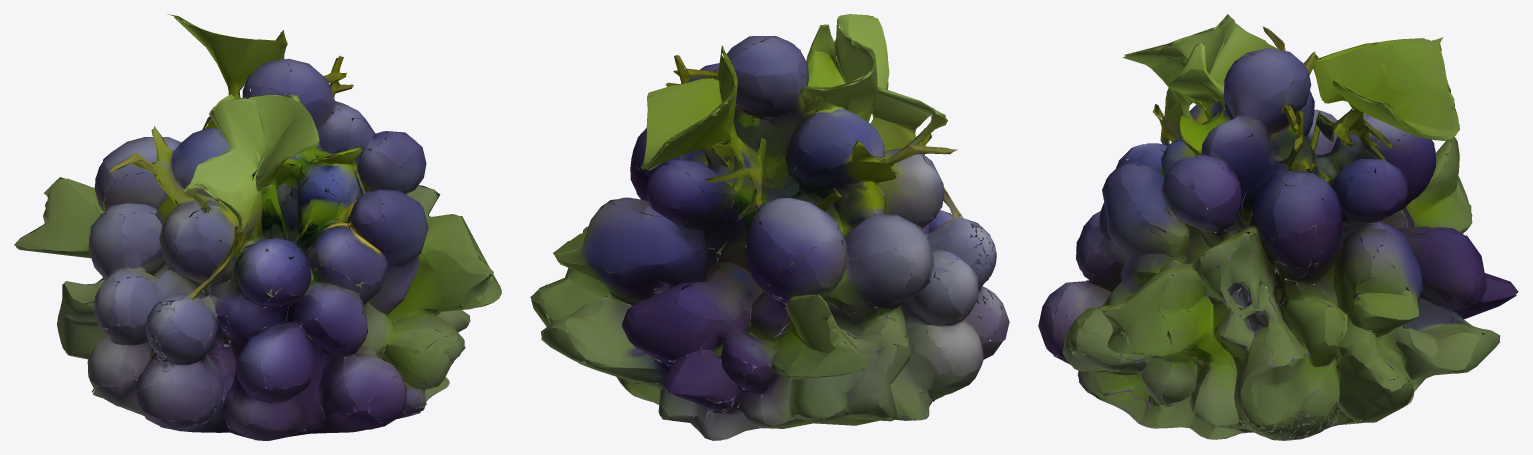
Rendered from hunyuan-grapes.glb.
3 renders of one model, left to right at view 1: azimuth 30°, elevation 25°; view 2: azimuth 150°, elevation 25°; view 3: azimuth 270°, elevation 25°, orthographic. The views are drawn at different scales.
Parts seen in each view (by area): view 1: node_0; view 2: node_0; view 3: node_0.
Boxes of the visible parts, left/top/right/bottom form: node_0: left=14, top=14, right=501, bottom=440; node_0: left=530, top=14, right=1009, bottom=440; node_0: left=1038, top=14, right=1518, bottom=440.
Size of the model in its own units: 0.9722 by 0.7737 by 1.03.
Materials: 1 (1 with a texture image).
